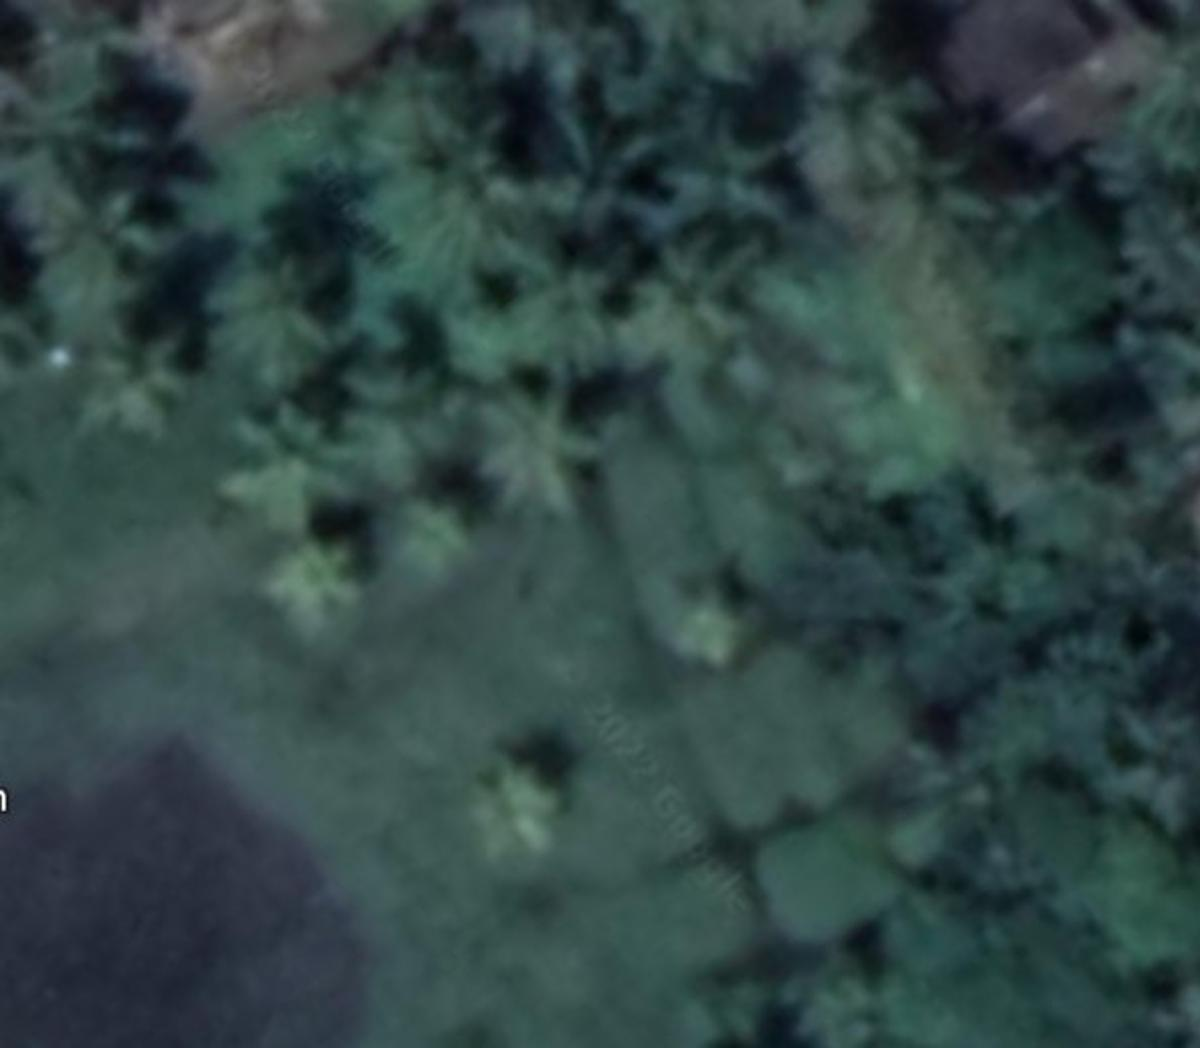coconut: (637, 228, 791, 364), (489, 362, 619, 513), (220, 396, 358, 538), (28, 167, 178, 295), (218, 246, 368, 370), (779, 54, 906, 186), (74, 327, 194, 441), (240, 532, 362, 637), (503, 267, 631, 366), (878, 139, 991, 246), (461, 742, 570, 849), (388, 489, 499, 580)
